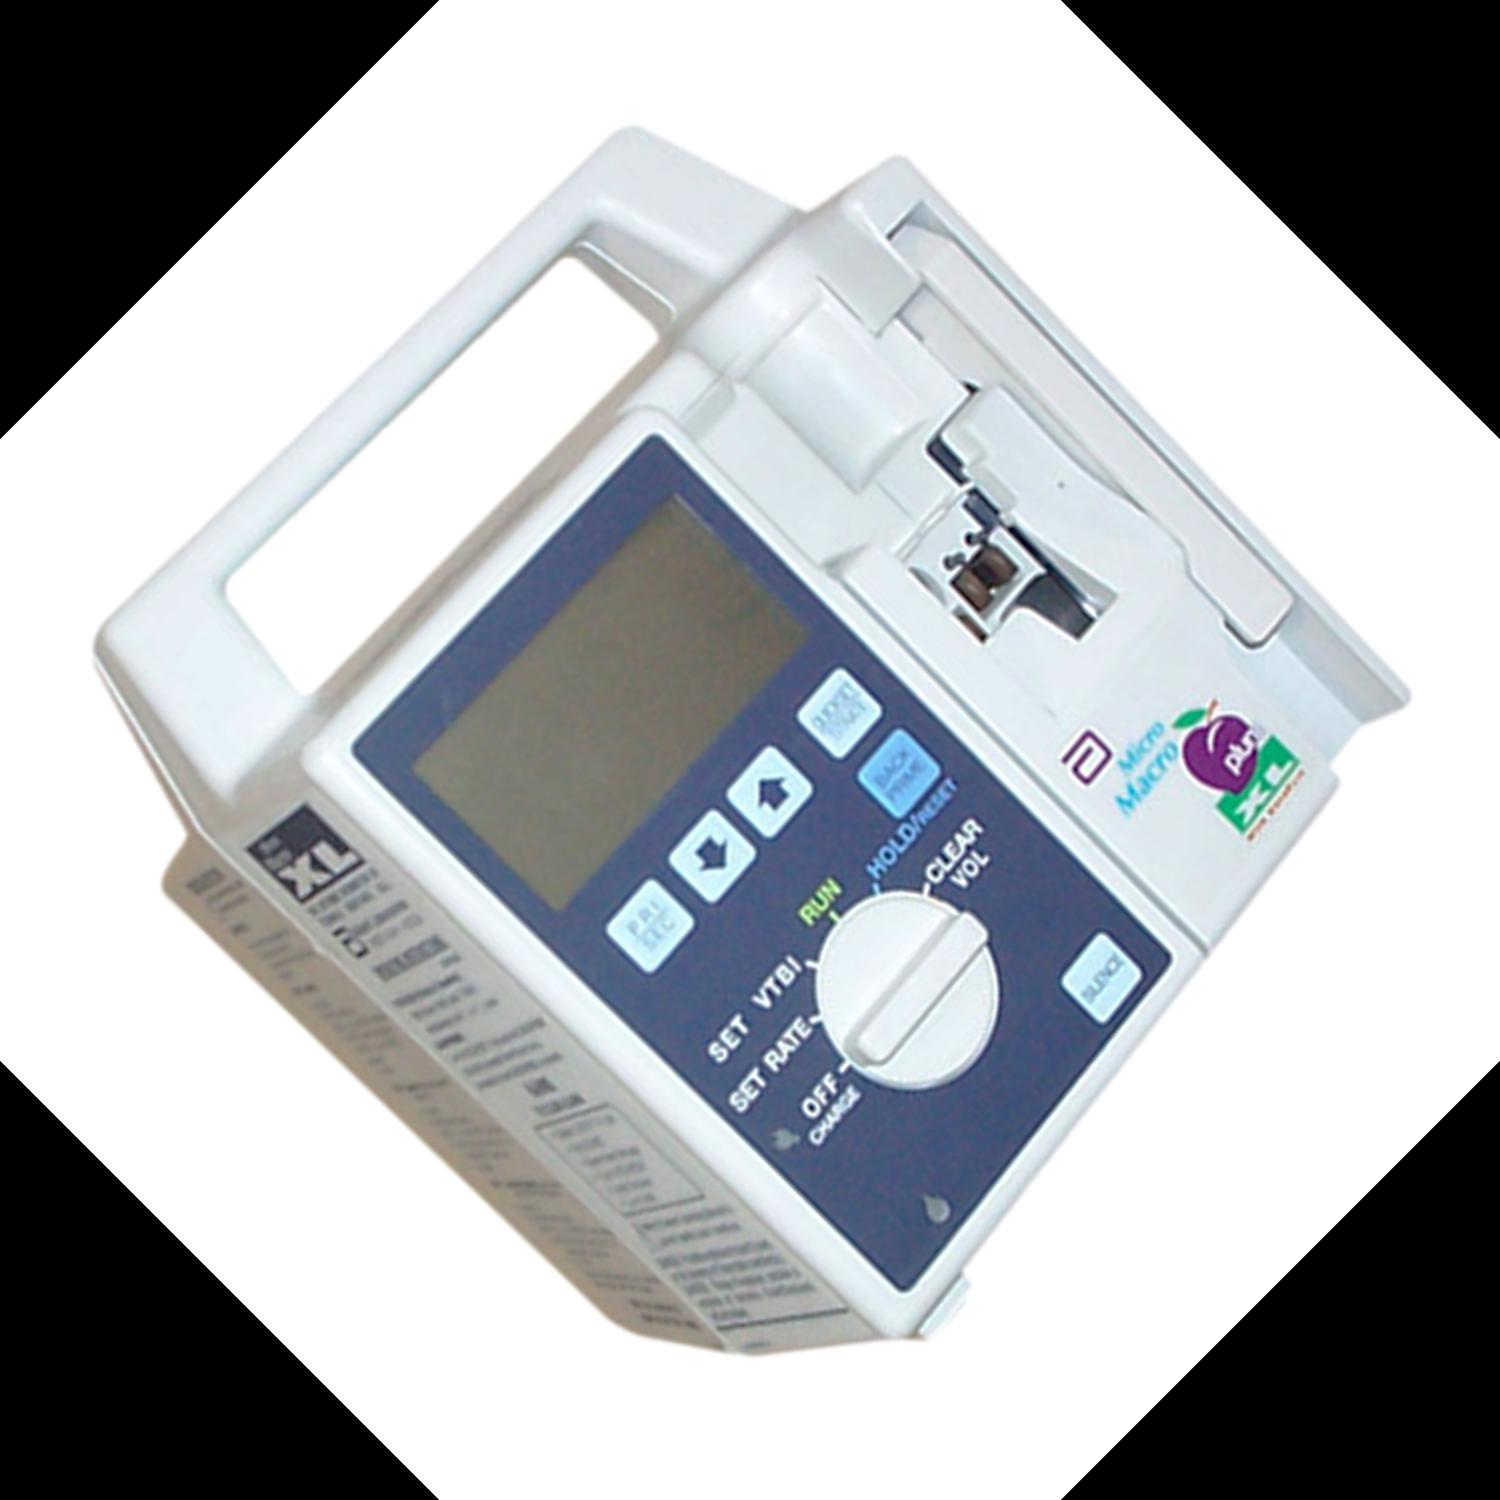plumxl1: (99, 163, 1405, 1346)
